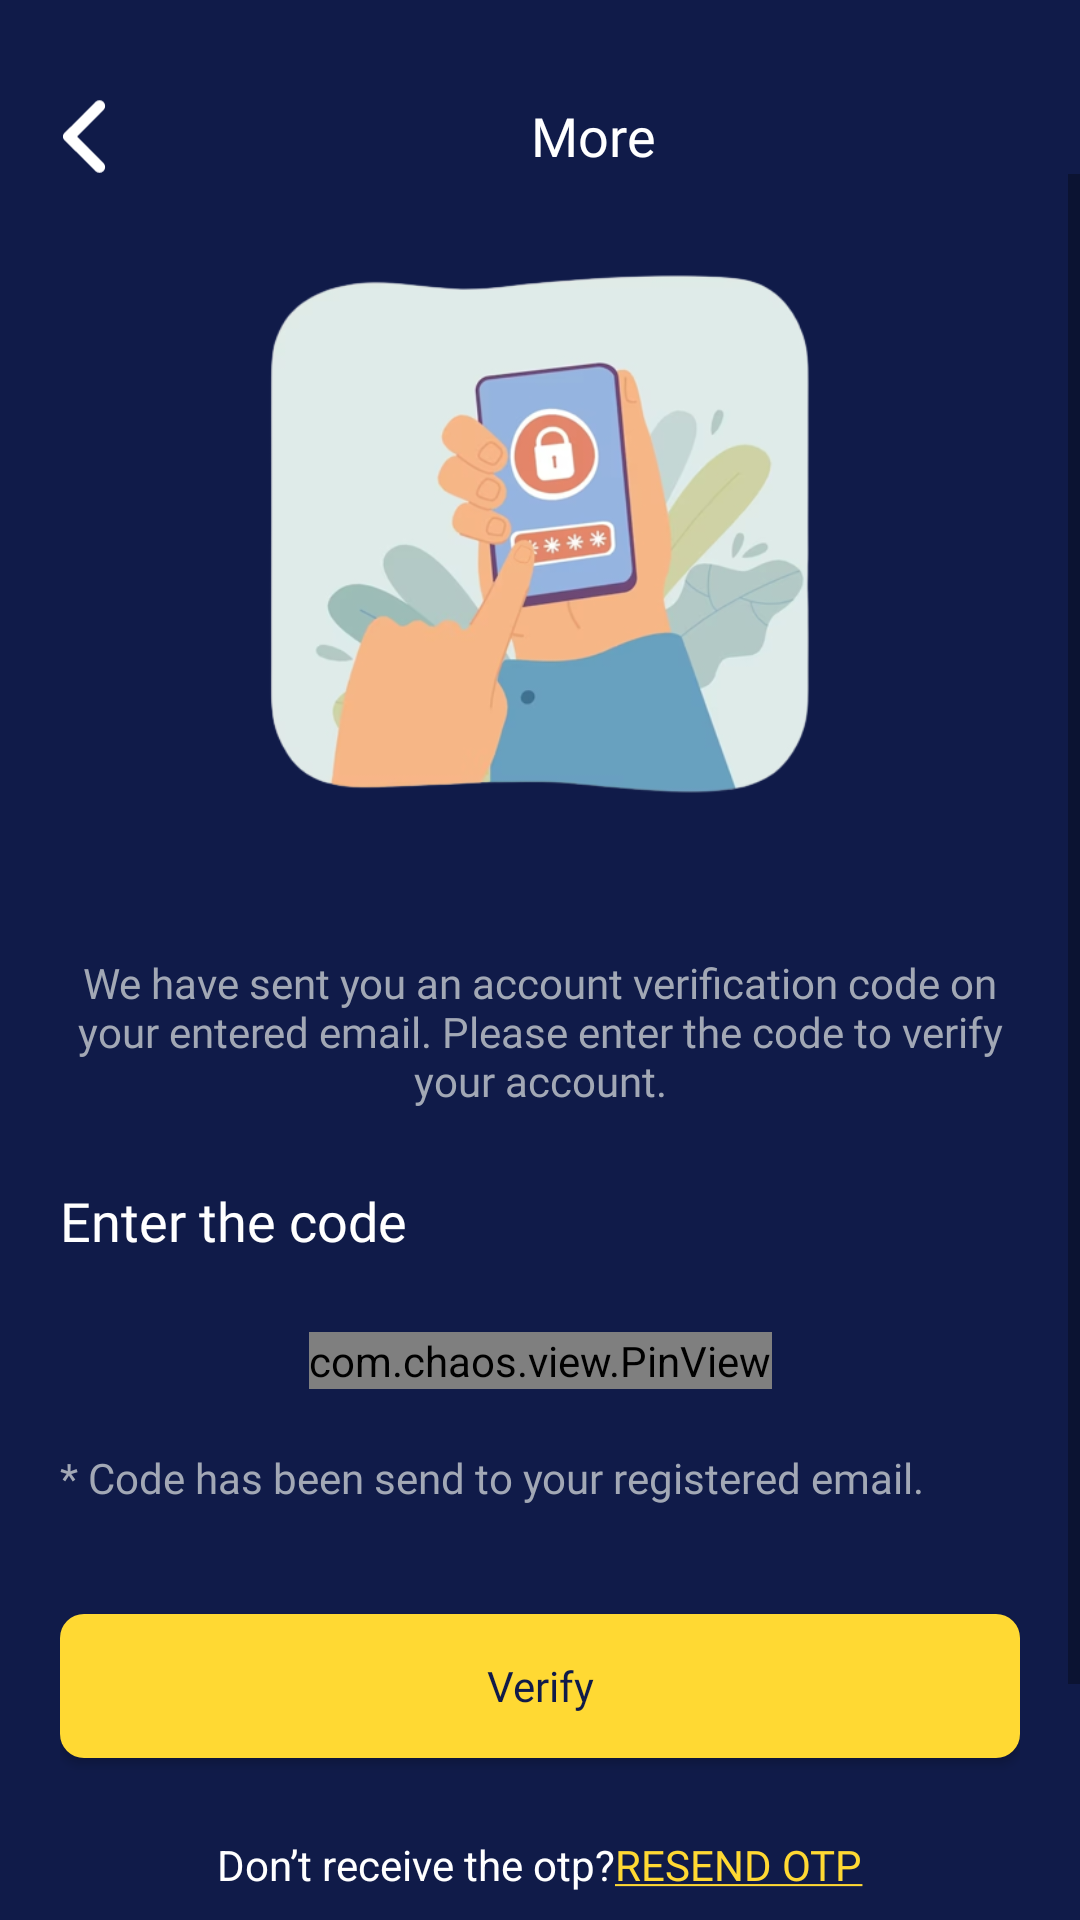

Named icons in this screenshot (1080px×1920px) and their centers, point (x, y):
back: point (84, 136)
